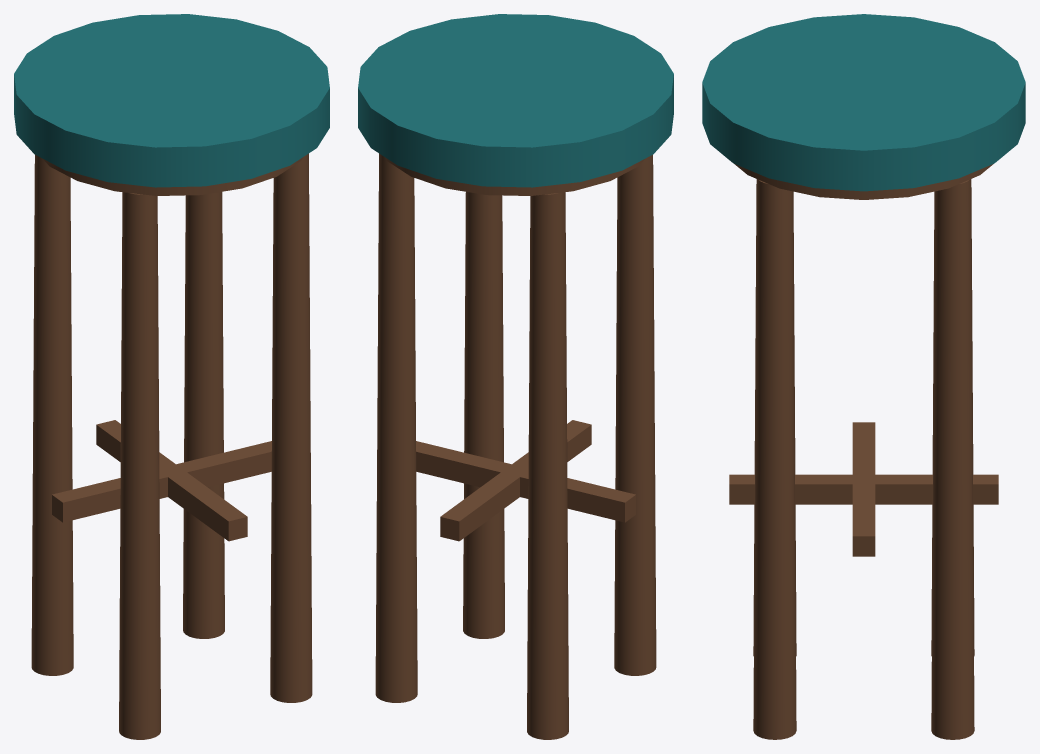
Rendered from bar-stool-lod0.glb.
The picture shows the model from 3 angles, left to right: view 1: azimuth 30°, elevation 25°; view 2: azimuth 150°, elevation 25°; view 3: azimuth 270°, elevation 25°; orthographic projection.
Parts seen in each view (by area): view 1: seat-pad, leg-3, leg-0, leg-2, leg-1, footrest-0, footrest-1, seat-plate; view 2: seat-pad, leg-2, leg-1, leg-3, leg-0, footrest-0, footrest-1, seat-plate; view 3: seat-pad, leg-0, leg-1, footrest-1, footrest-0, seat-plate, leg-2, leg-3.
Boxes of the visible parts, box(x1,y1,x2,y2) form: seat-pad: box(14, 14, 329, 187); leg-3: box(119, 192, 160, 739); leg-0: box(270, 153, 312, 702); leg-2: box(31, 155, 73, 675); leg-1: box(183, 192, 224, 638); footrest-0: box(52, 441, 271, 522); footrest-1: box(96, 420, 247, 541); seat-plate: box(43, 157, 303, 195); seat-pad: box(358, 14, 673, 187); leg-2: box(527, 192, 568, 739); leg-1: box(375, 153, 417, 702); leg-3: box(614, 155, 656, 675); leg-0: box(463, 192, 504, 638); footrest-0: box(416, 441, 635, 522); footrest-1: box(440, 420, 591, 541); seat-plate: box(384, 157, 644, 195); seat-pad: box(702, 14, 1025, 191); leg-0: box(753, 179, 796, 739); leg-1: box(931, 179, 974, 739); footrest-1: box(729, 474, 998, 504); footrest-0: box(852, 422, 875, 556); seat-plate: box(734, 164, 993, 199); leg-2: box(931, 179, 974, 656); leg-3: box(753, 179, 796, 656).
Size of the model in its own units: 0.36 by 0.75 by 0.36.
